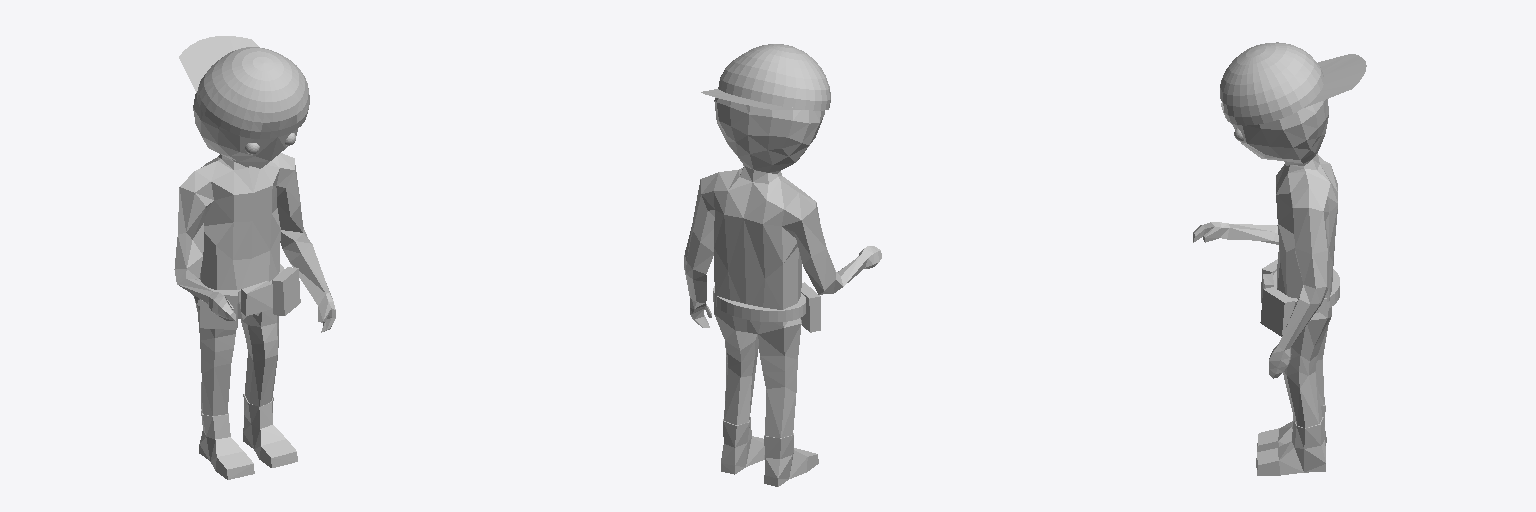
File: Main_Character_Pickup_Paint_6.obj
The picture shows the model from 3 angles: view 1: azimuth 30°, elevation 25°; view 2: azimuth 150°, elevation 25°; view 3: azimuth 270°, elevation 25°; orthographic projection.
Visible parts, largest first — view 1: Main_Character_Test.003_Main_Character_Test.004; view 2: Main_Character_Test.003_Main_Character_Test.004; view 3: Main_Character_Test.003_Main_Character_Test.004.
Boxes of the visible parts, x1,y1,x2,y2 form: Main_Character_Test.003_Main_Character_Test.004: [174, 36, 335, 479]; Main_Character_Test.003_Main_Character_Test.004: [684, 44, 881, 486]; Main_Character_Test.003_Main_Character_Test.004: [1193, 42, 1366, 475].
Bounding box in the file's own units: 1.54 × 3.93 × 1.5.